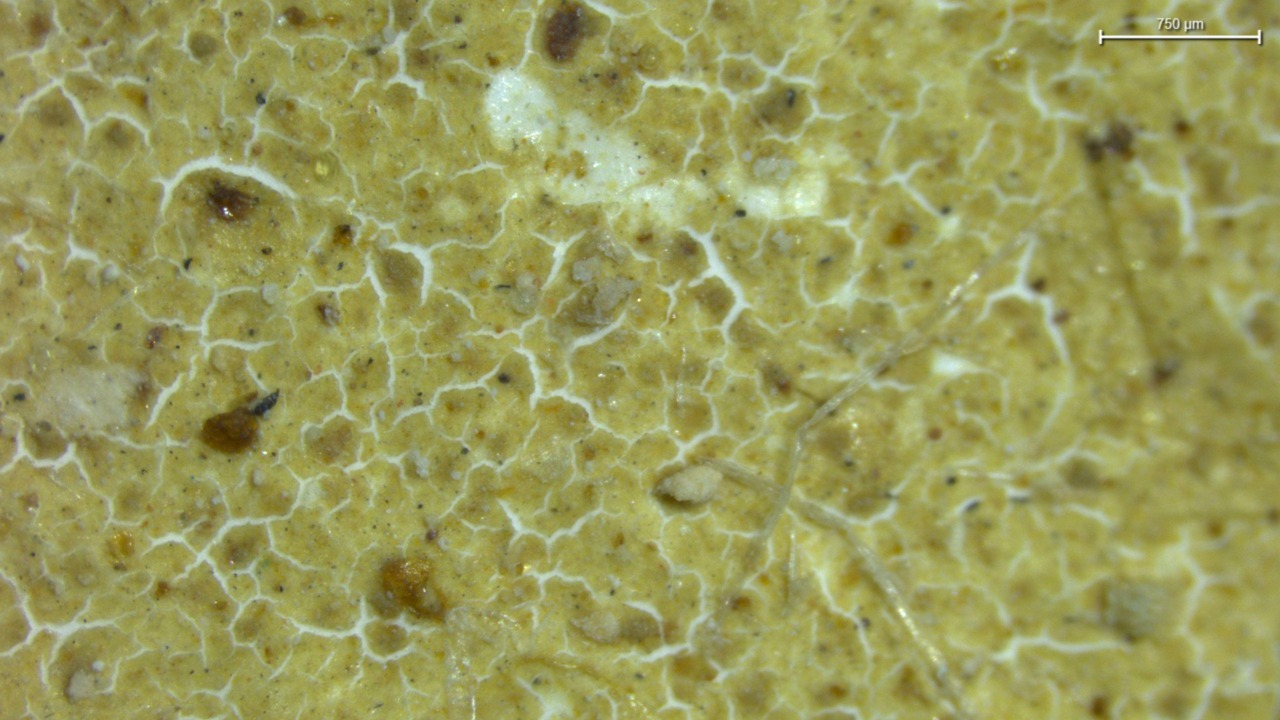microplastic_fragment: (657, 465, 723, 503)
